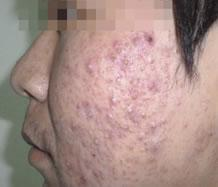fore: (142, 32, 158, 47), (117, 58, 130, 75), (194, 142, 207, 159), (104, 39, 121, 52), (147, 140, 161, 154), (109, 74, 124, 86), (106, 112, 118, 127), (107, 128, 123, 139), (83, 60, 97, 72), (153, 114, 165, 128), (107, 95, 122, 106), (134, 107, 146, 120), (89, 136, 103, 147), (78, 169, 89, 183), (143, 55, 156, 66), (133, 43, 146, 54), (98, 129, 111, 140), (71, 120, 82, 133), (92, 169, 106, 179), (74, 156, 84, 170), (102, 64, 116, 74), (131, 75, 143, 86), (133, 130, 145, 141), (107, 53, 120, 63), (132, 92, 143, 103), (80, 137, 91, 148), (95, 101, 105, 112), (147, 79, 157, 90), (130, 33, 141, 43), (90, 74, 101, 84), (80, 98, 89, 110), (122, 103, 131, 115), (87, 111, 99, 120), (88, 147, 97, 159), (125, 140, 135, 150), (197, 132, 206, 143), (95, 87, 107, 95), (61, 66, 71, 75), (71, 99, 80, 109), (109, 165, 118, 175), (128, 166, 138, 175), (67, 147, 76, 157), (172, 98, 183, 106), (146, 120, 153, 132), (90, 85, 97, 97), (126, 86, 135, 95), (119, 167, 128, 176), (179, 120, 189, 128), (66, 159, 72, 171), (124, 161, 132, 170), (123, 174, 131, 182), (64, 138, 72, 146), (111, 173, 120, 180), (118, 157, 124, 167)
